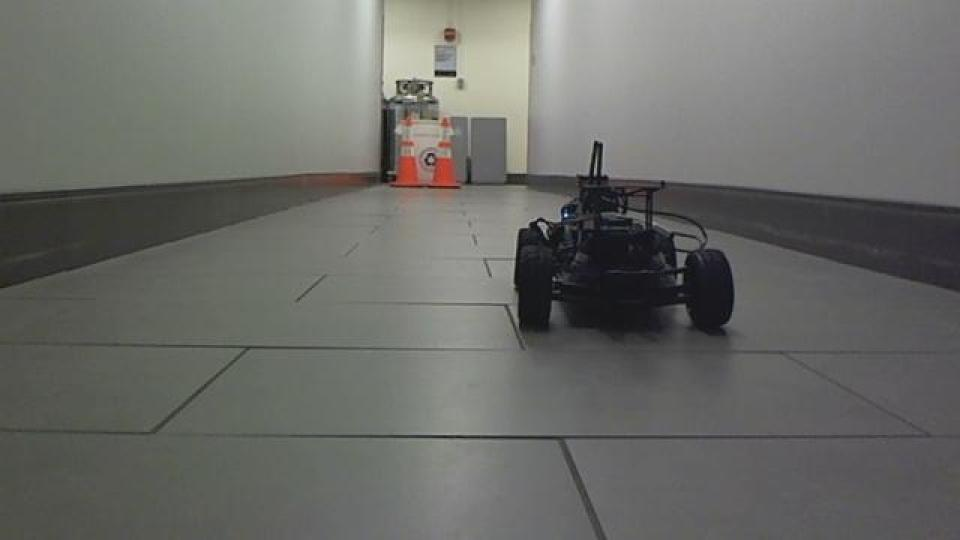car: (510, 138, 736, 336)
